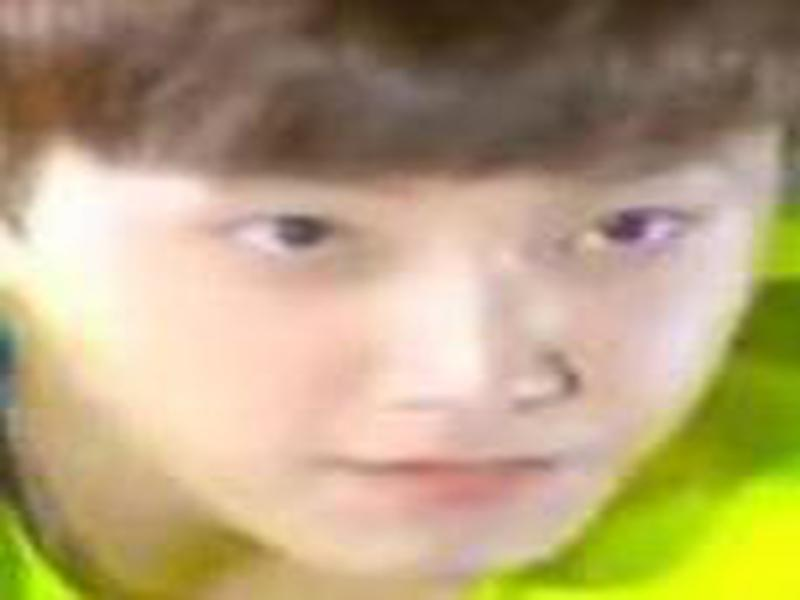without_mask: (16, 121, 776, 582)
